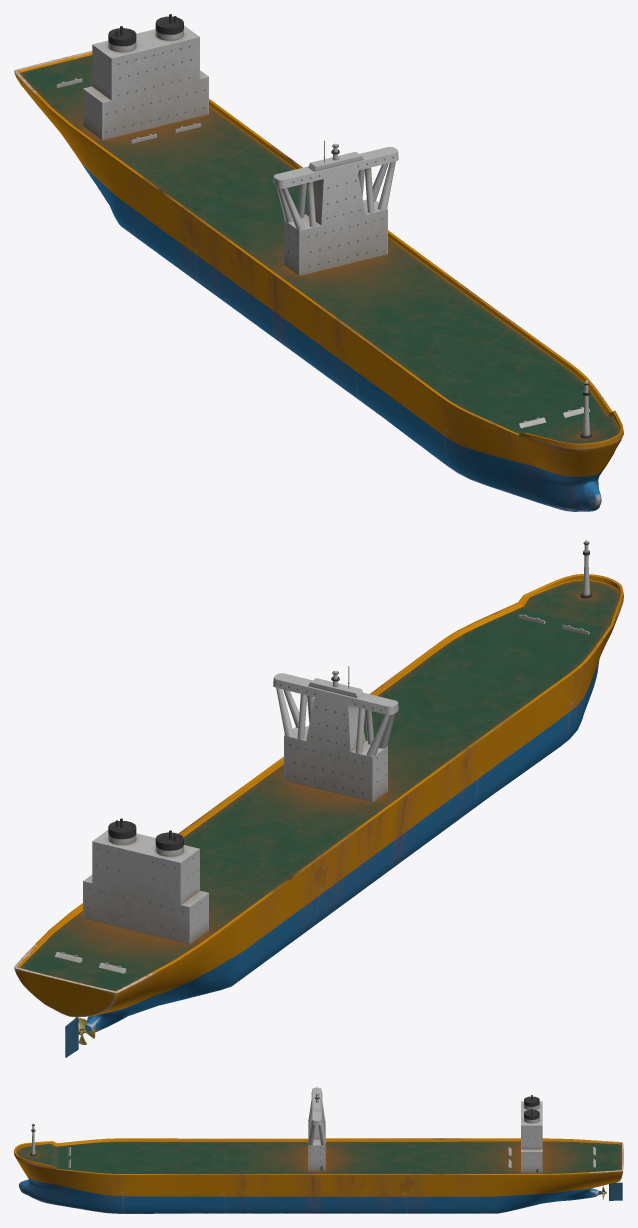
File: ShipModel.dae
3 renders of one model, top to bottom at view 1: azimuth 30°, elevation 25°; view 2: azimuth 150°, elevation 25°; view 3: azimuth 270°, elevation 25°, orthographic. The views are drawn at different scales.
Parts seen in each view (by area): view 1: pCube30; view 2: pCube30; view 3: pCube30.
Part boxes in pixels (bbox=[...]): pCube30: bbox=[14, 14, 623, 511]; pCube30: bbox=[14, 540, 623, 1057]; pCube30: bbox=[14, 1086, 623, 1213].
Bounding box in the file's own units: 54.98 × 78.55 × 388.
1 material, 1 textured.
